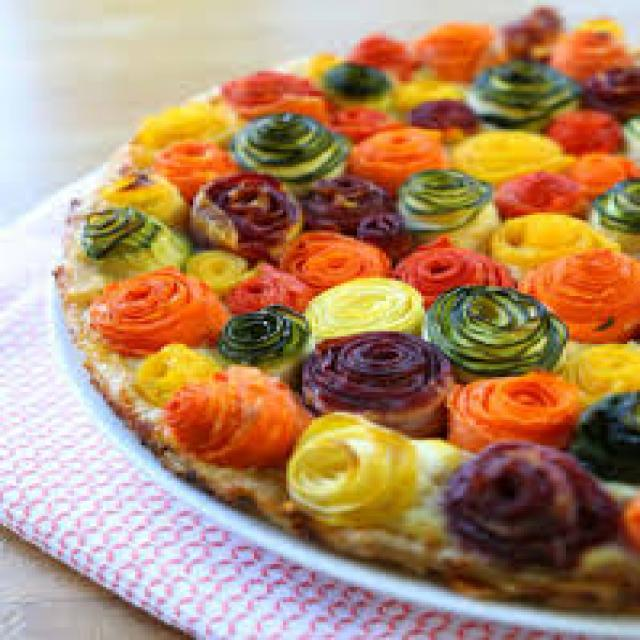organic waste: (58, 5, 637, 607)
